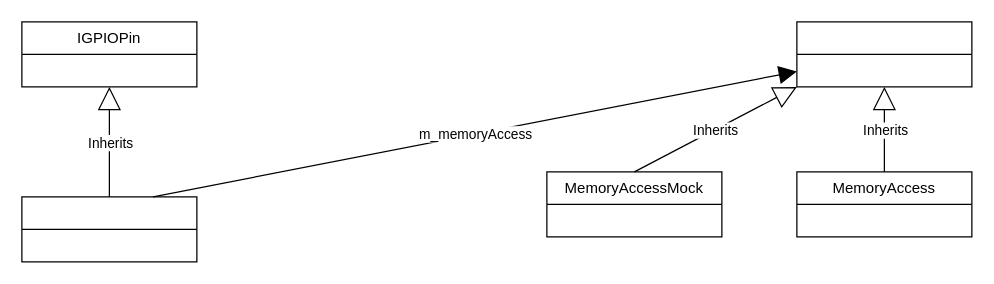
This 994x284 diagram has some shape labels left out. The shapes that lost their labels are listed below. From the top down, each one's centre as x and y in pixels, then its label:
At [884,54]: "IMemoryAccess".
At [109,229]: "PhysicalGPIOPin".
